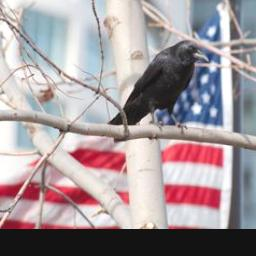Crow: (104, 38, 209, 138)
